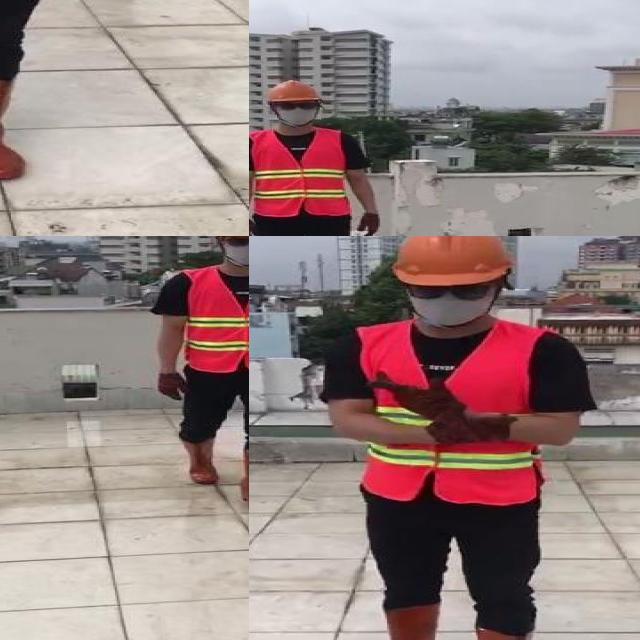boots: (362, 604, 440, 640), (0, 67, 23, 178), (176, 435, 218, 483)
face_mask: (406, 276, 496, 326), (223, 236, 249, 266)
glasses: (403, 280, 497, 304), (219, 236, 249, 249)
hand_glove: (376, 374, 512, 442), (156, 372, 190, 399)
head_helmet: (249, 77, 393, 236), (379, 236, 517, 287), (258, 78, 322, 102)
person: (327, 236, 567, 640), (150, 236, 249, 514), (0, 0, 125, 184)
vest: (355, 318, 542, 506), (249, 128, 350, 218), (182, 267, 249, 372)
